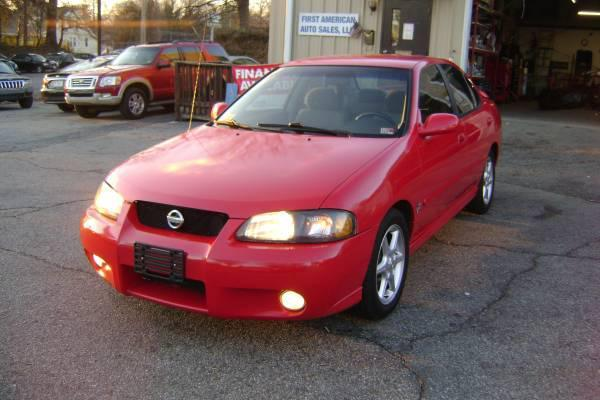Front_Bumper: (78, 203, 376, 319)
Front_Fender: (318, 125, 421, 250)
Front_Left_Door: (415, 120, 470, 249)
Front_Left_Window: (419, 63, 461, 125)
Front_Windshield: (216, 65, 416, 135)
Grille: (125, 202, 229, 242)
Hood: (108, 125, 398, 218)
Left_Headlight: (230, 207, 351, 244)
Rear_Left_Door: (461, 101, 500, 199)
Rear_Left_Window: (442, 64, 485, 119)
Right_Headlight: (94, 179, 124, 223)
Roof: (281, 55, 469, 124)
Wheel: (365, 214, 409, 317), (479, 155, 500, 212)
